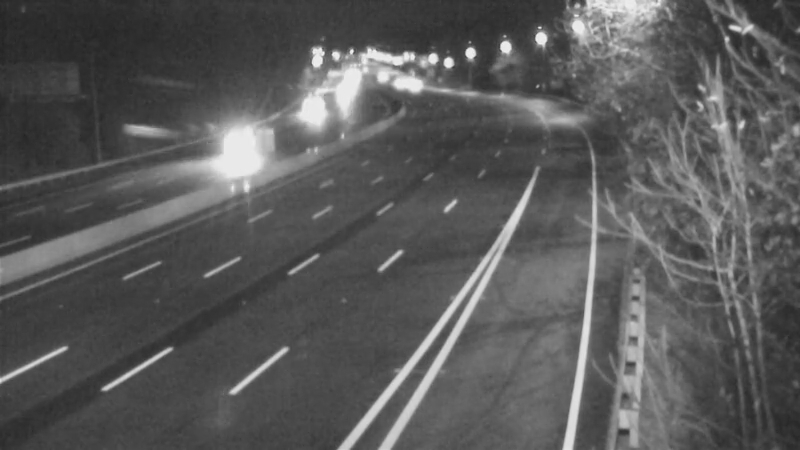vehicle: (352, 50, 402, 100), (388, 63, 438, 113), (211, 121, 261, 171), (293, 81, 343, 131), (319, 69, 369, 119)
